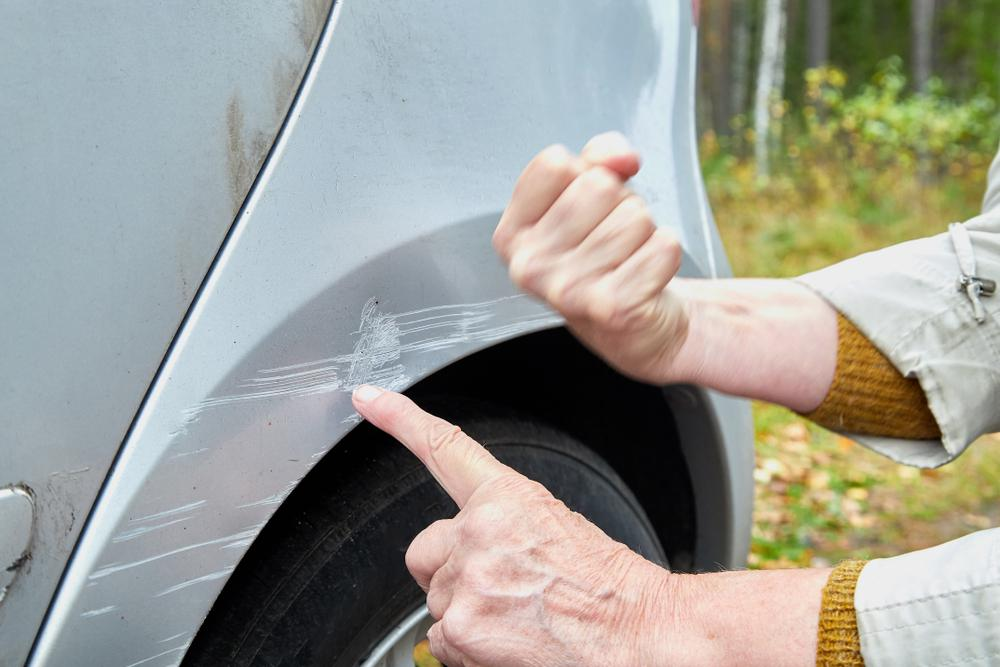scratch: (78, 291, 567, 667)
